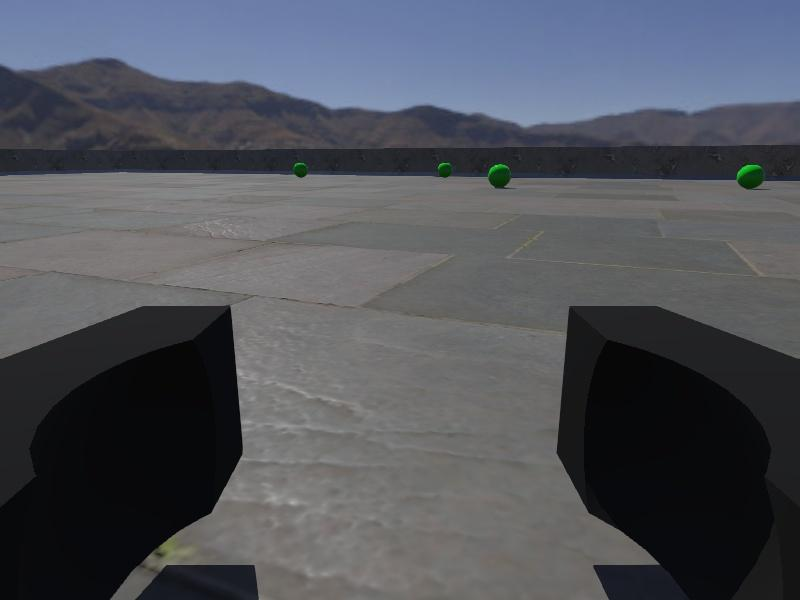green ball: (735, 162, 765, 189), (487, 162, 512, 189), (436, 162, 453, 178), (293, 162, 309, 178)
